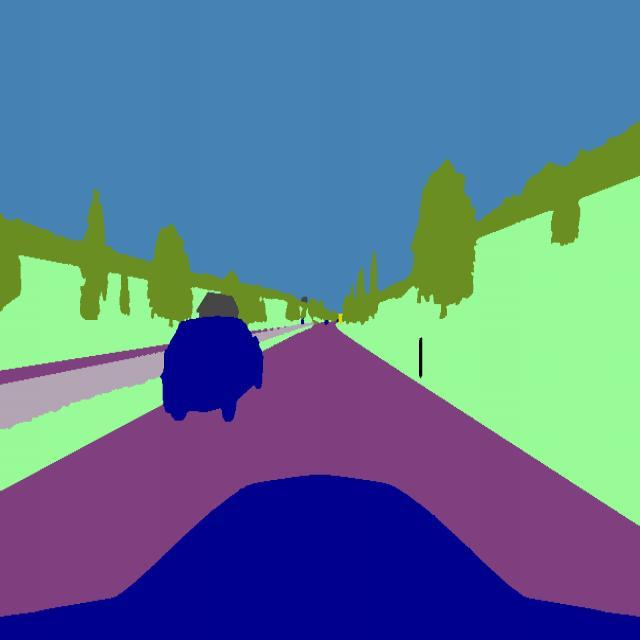safe: (161, 311, 266, 425)
